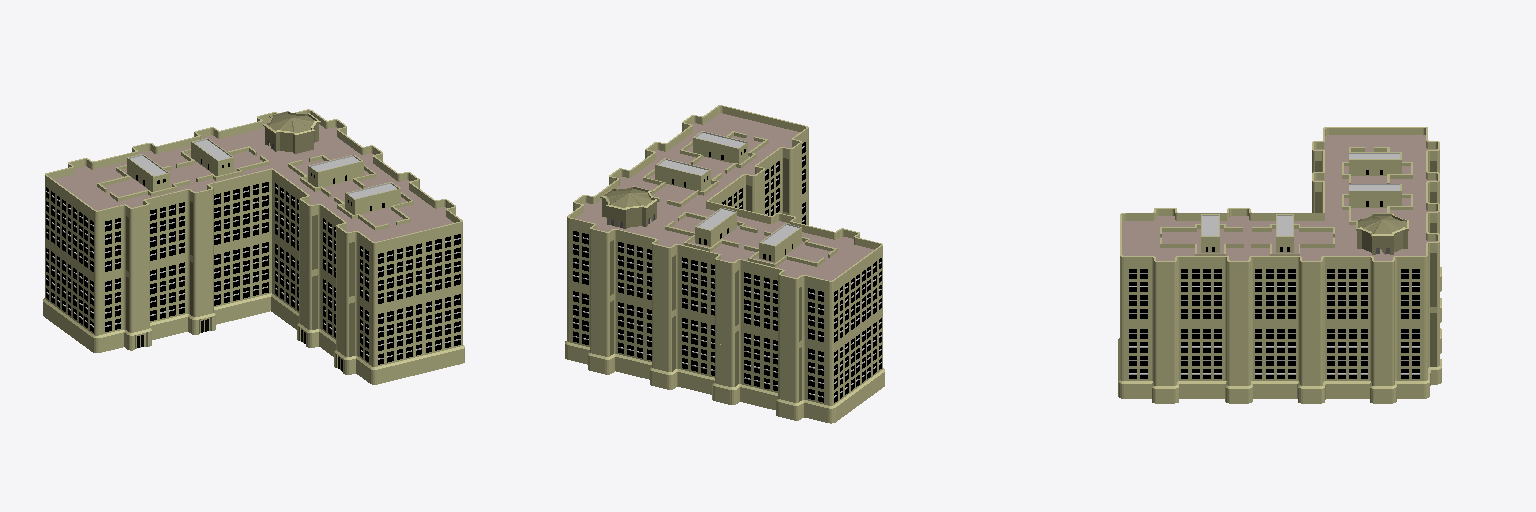
Rendered from immeuble.obj.
3 views of the same model, side by side, from view 1: azimuth 30°, elevation 25°; view 2: azimuth 150°, elevation 25°; view 3: azimuth 270°, elevation 25° (orthographic).
Parts seen in each view (by area): view 1: object5, object, object7, object56, object36, object61, object46, object66, object41, object51, object31, Cube_7155 (+18 smaller); view 2: object5, object, object7, object41, object36, object46, object31, object61, object56, object66, object8, object51 (+18 smaller); view 3: object5, object, object7, object36, object31, object61, object41, object66, object51, object56, object46, object8 (+17 smaller).
Boxes of the visible parts, x1=… form: object5: x1=53, y1=121, x2=453, y2=241; object: x1=43, y1=293, x2=464, y2=384; object7: x1=45, y1=118, x2=462, y2=252; object56: x1=45, y1=253, x2=462, y2=339; object36: x1=45, y1=193, x2=462, y2=279; object61: x1=45, y1=240, x2=462, y2=326; object46: x1=45, y1=206, x2=462, y2=292; object66: x1=45, y1=267, x2=462, y2=353; object41: x1=45, y1=179, x2=462, y2=266; object51: x1=45, y1=280, x2=462, y2=366; object31: x1=45, y1=220, x2=462, y2=306; Cube_7155: x1=45, y1=233, x2=462, y2=312; object5: x1=576, y1=113, x2=873, y2=280; object: x1=565, y1=341, x2=884, y2=423; object7: x1=567, y1=116, x2=882, y2=291; object41: x1=567, y1=138, x2=882, y2=304; object36: x1=567, y1=151, x2=882, y2=318; object46: x1=567, y1=165, x2=882, y2=331; object31: x1=567, y1=178, x2=882, y2=345; object61: x1=567, y1=198, x2=882, y2=365; object56: x1=567, y1=212, x2=882, y2=378; object66: x1=567, y1=315, x2=882, y2=391; object8: x1=570, y1=106, x2=880, y2=249; object51: x1=567, y1=328, x2=882, y2=405; object5: x1=1122, y1=135, x2=1436, y2=260; object: x1=1118, y1=267, x2=1441, y2=403; object7: x1=1120, y1=142, x2=1439, y2=271; object36: x1=1120, y1=205, x2=1439, y2=298; object31: x1=1120, y1=292, x2=1439, y2=325; object61: x1=1120, y1=312, x2=1439, y2=345; object41: x1=1120, y1=160, x2=1439, y2=284; object66: x1=1120, y1=339, x2=1439, y2=372; object51: x1=1120, y1=353, x2=1439, y2=385; object56: x1=1120, y1=326, x2=1439, y2=358; object46: x1=1120, y1=279, x2=1439, y2=311; object8: x1=1122, y1=128, x2=1437, y2=240.
Size of the model in its own units: 3.39 by 1.83 by 3.39.